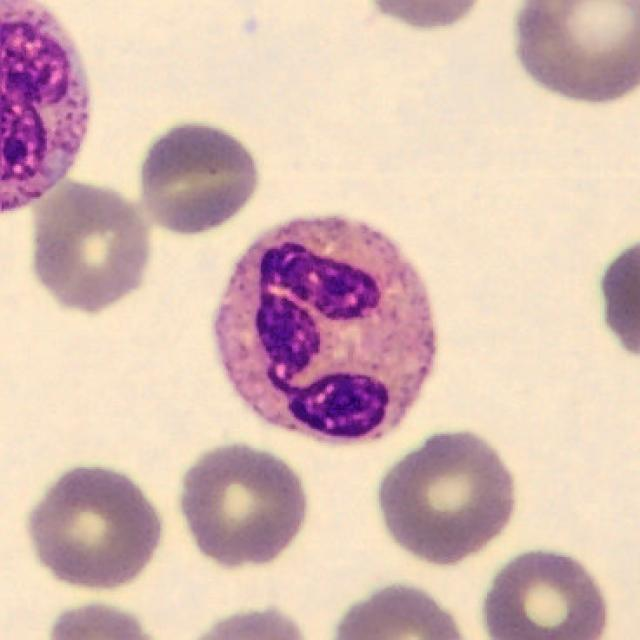Neutrofilo segmentado: (212, 216, 438, 445)
